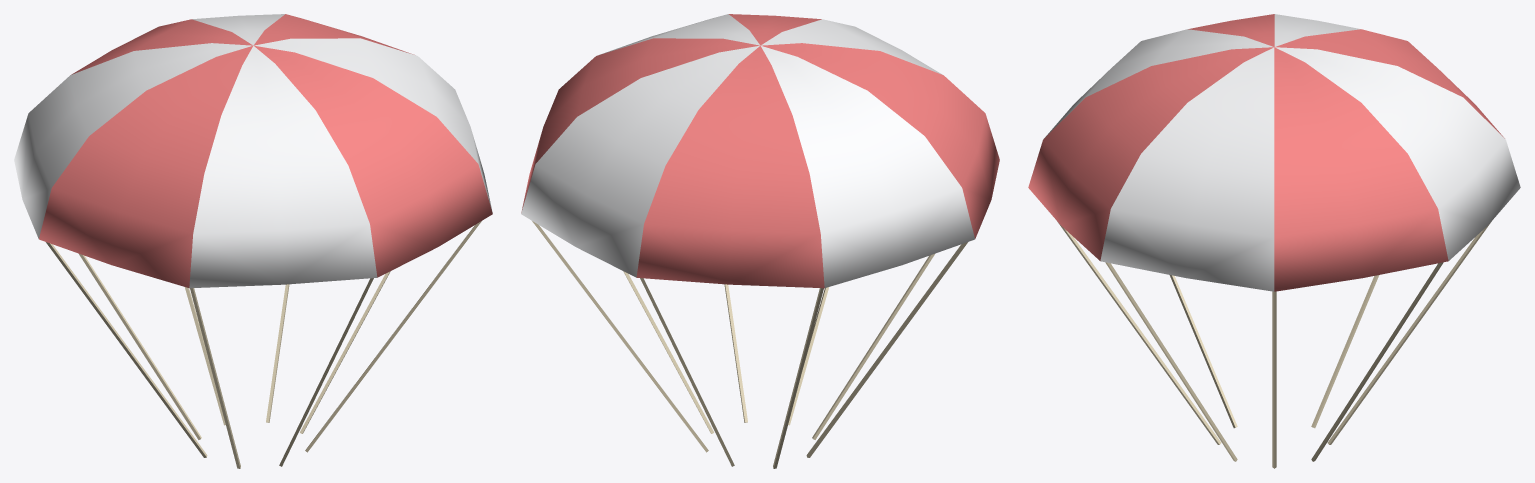
Rendered from Parachute.fbx.
3 renders of one model, left to right at view 1: azimuth 30°, elevation 25°; view 2: azimuth 150°, elevation 25°; view 3: azimuth 270°, elevation 25°, orthographic.
Visible parts, largest first — view 1: Parachute; view 2: Parachute; view 3: Parachute.
Part boxes in pixels (x1,y1,x2,y2): Parachute: (14, 14, 492, 468); Parachute: (521, 14, 999, 468); Parachute: (1028, 14, 1520, 468).
Size of the model in its own units: 2.7 by 2.41 by 2.7.
